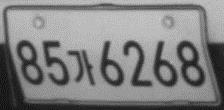2: (123, 39, 153, 88)
5: (41, 39, 69, 86)
6: (151, 39, 178, 86), (99, 39, 123, 87)
8: (176, 38, 205, 86), (15, 39, 43, 85)
가: (66, 49, 96, 86)
